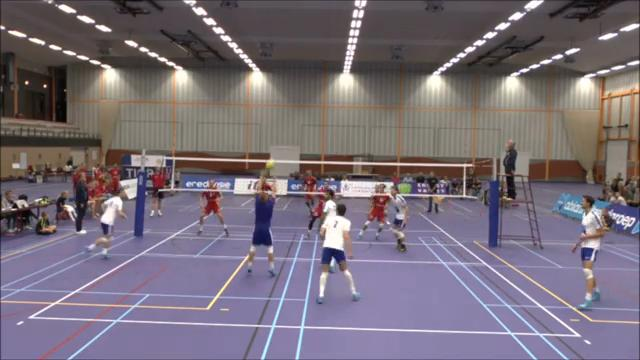ricezione: (245, 172, 278, 278)
